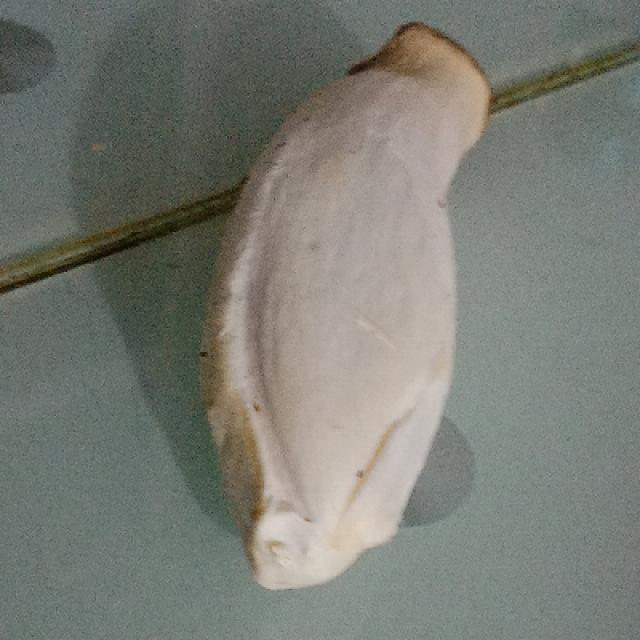Pleurotus eryngii: (197, 22, 493, 582)
